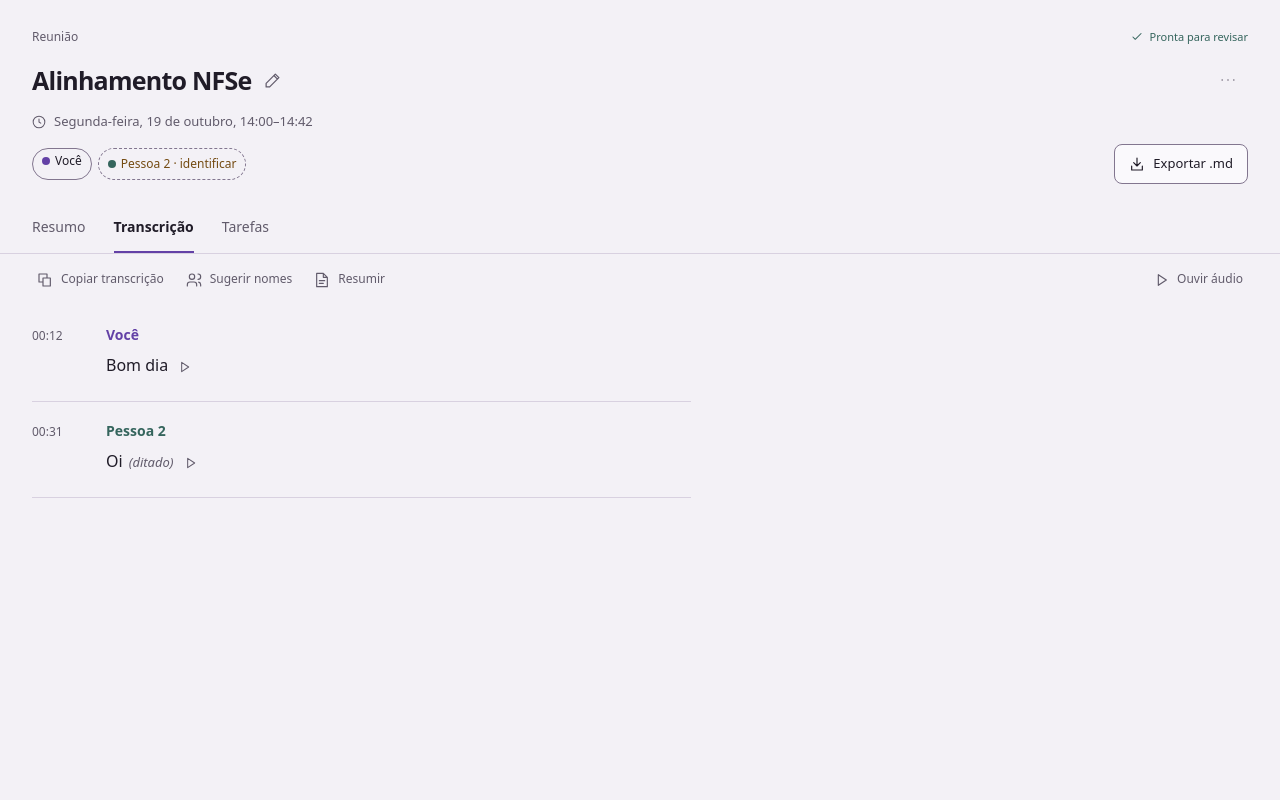
Test case: MeetingDetail › does not repeat the same error message key when two actions fail with the same text
Click the button "Exportar .md". click: (1181, 164)
box: [1114,144,1248,184]
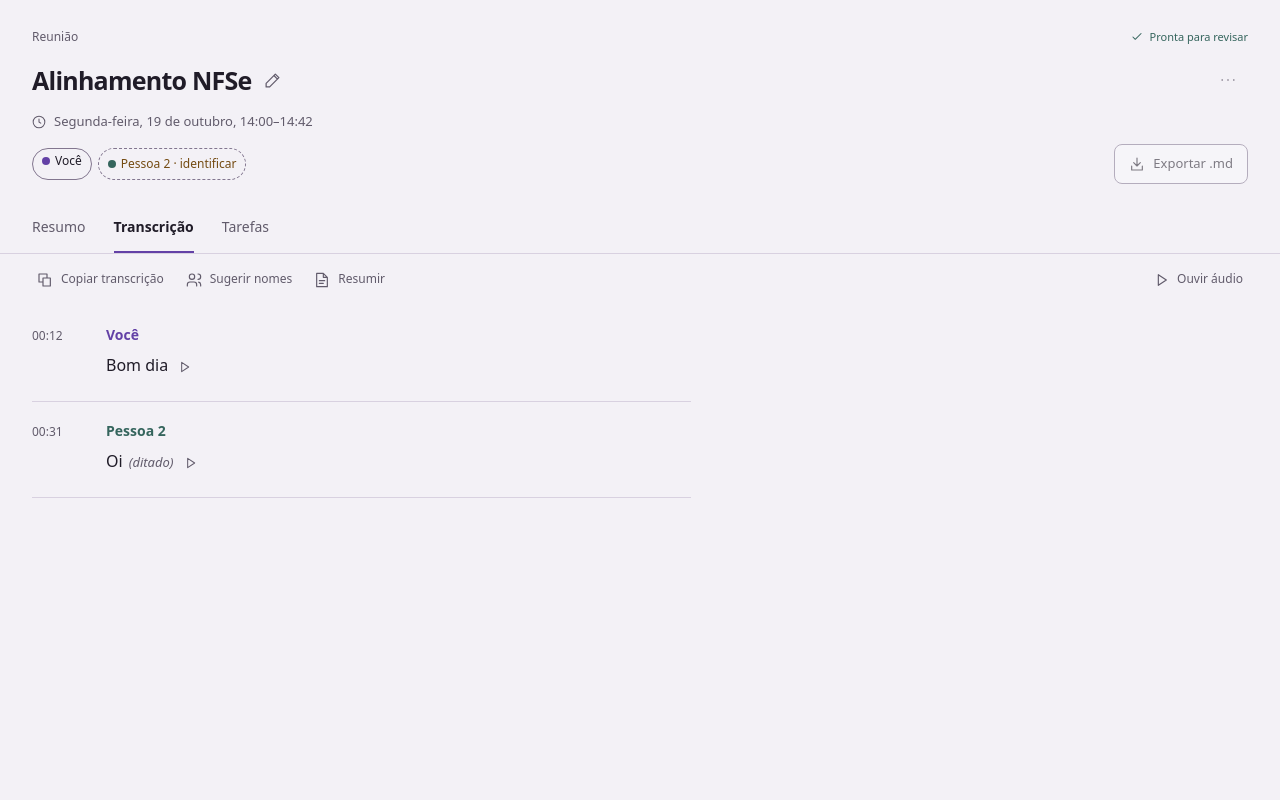
Click the button "Ouvir áudio". click: (1198, 280)
box: [1148,262,1248,298]
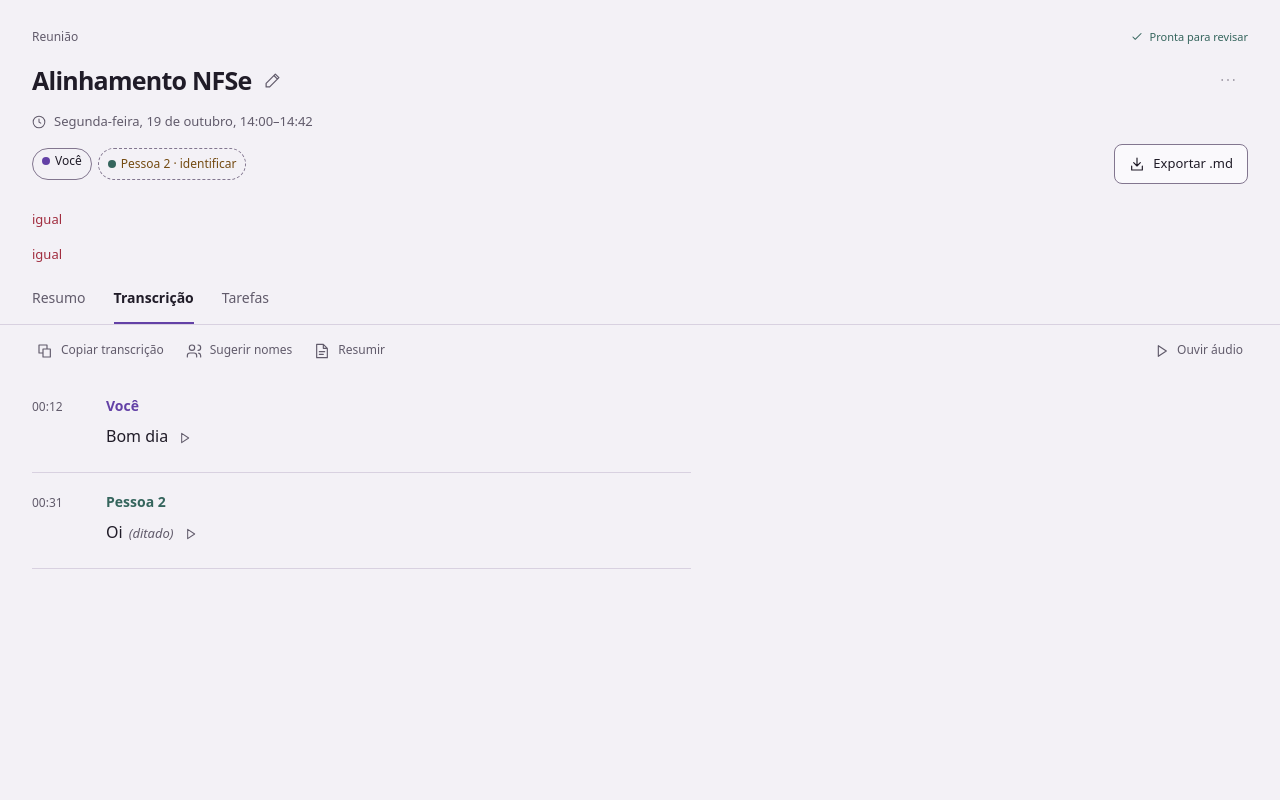
Expected: the number of messages with class "error" is 2, [32,210,62,228]; [32,245,62,263]
